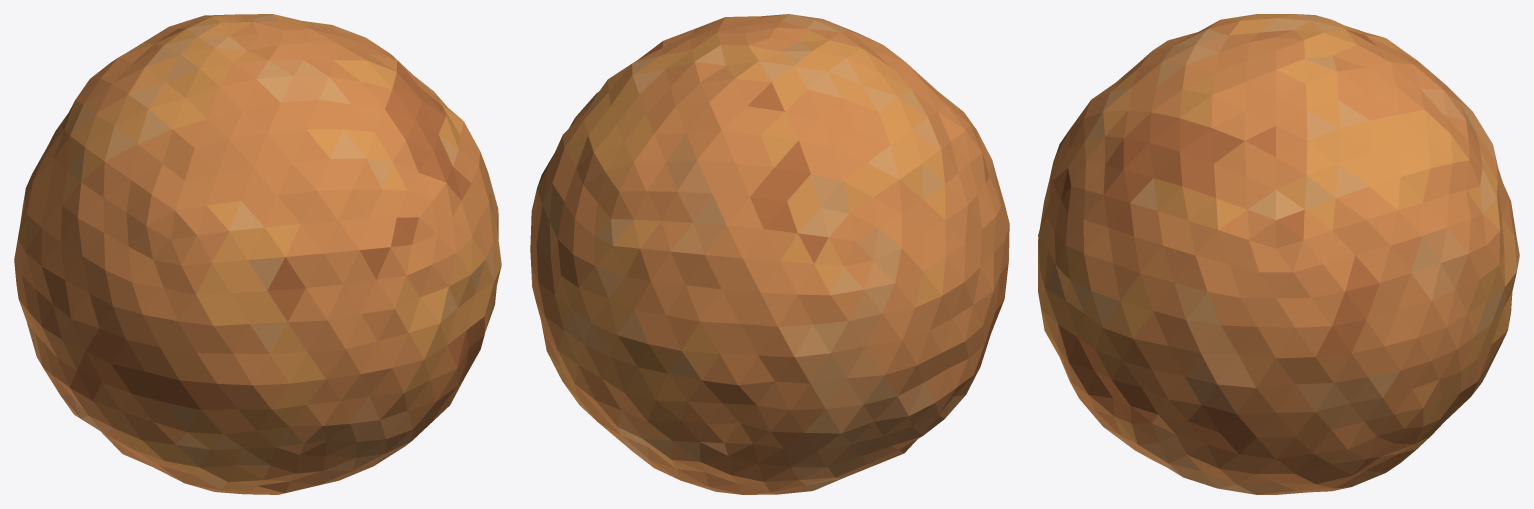
The model's file is VenusLowPoly.fbx.
3 renders of one model, left to right at view 1: azimuth 30°, elevation 25°; view 2: azimuth 150°, elevation 25°; view 3: azimuth 270°, elevation 25°, orthographic.
Parts seen in each view (by area): view 1: Icosphere; view 2: Icosphere; view 3: Icosphere.
Boxes of the visible parts, box(x1,y1,x2,y2) form: Icosphere: box(14, 14, 501, 494); Icosphere: box(530, 14, 1009, 494); Icosphere: box(1038, 14, 1519, 494).
Size of the model in its own units: 1005 by 1009 by 1005.
